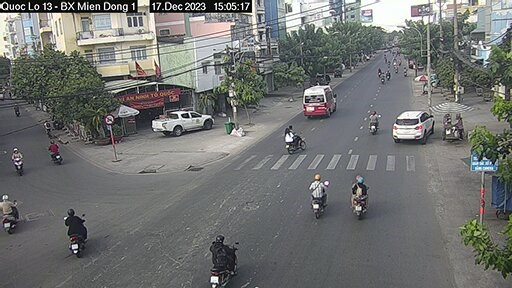car: (386, 105, 434, 146), (159, 113, 216, 142), (305, 83, 333, 129)
motorbike: (55, 212, 92, 262), (209, 231, 247, 277), (310, 173, 338, 219), (284, 125, 308, 164), (363, 110, 383, 141), (354, 174, 369, 209)
